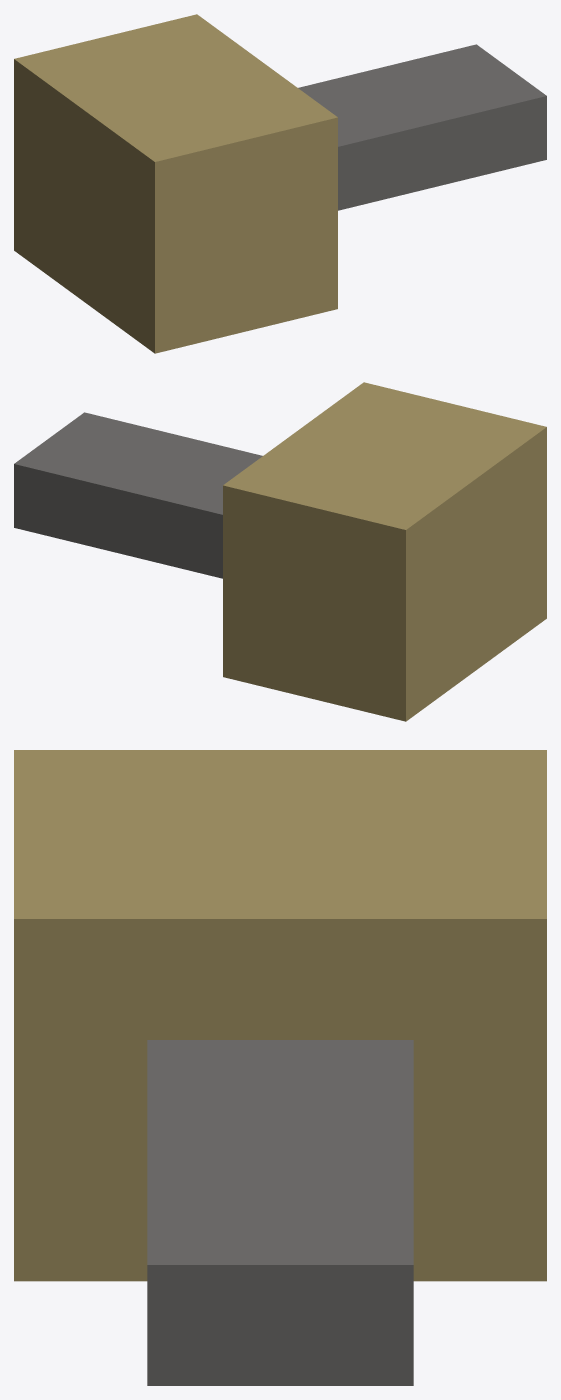
Rendered from lever.glb.
3 views of the same model, one above another, from view 1: azimuth 30°, elevation 25°; view 2: azimuth 150°, elevation 25°; view 3: azimuth 270°, elevation 25° (orthographic). The views are drawn at different scales.
Size of the model in its own units: 7 by 3 by 4.
